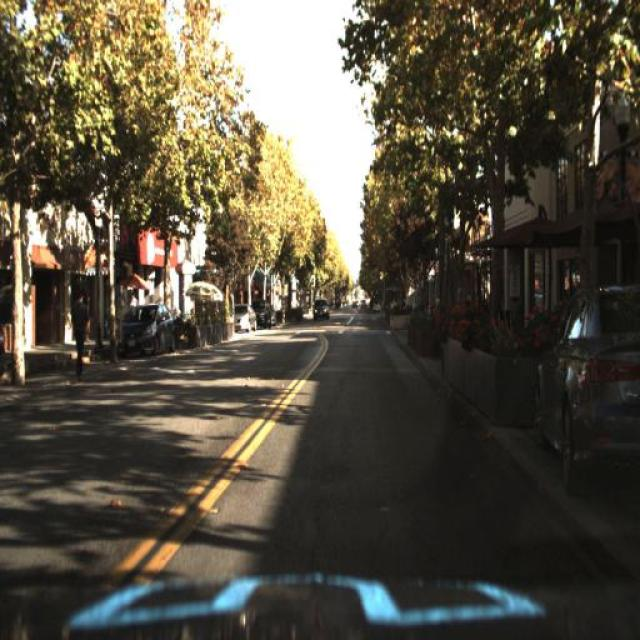car: (525, 280, 640, 498), (116, 300, 173, 356), (227, 301, 258, 335), (250, 292, 278, 329), (225, 302, 255, 332), (311, 296, 331, 325), (252, 294, 268, 330), (311, 299, 329, 321)
trafficLight: (67, 284, 91, 380)
